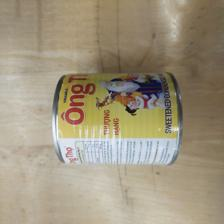Ong_tho: (51, 70, 185, 169)
